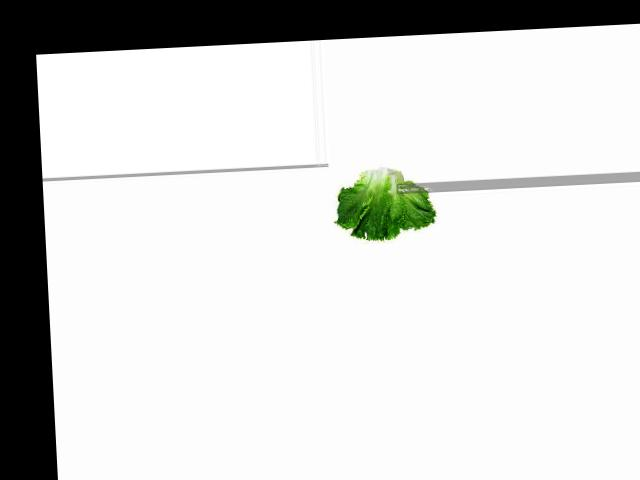lettuce: (333, 164, 432, 241)
